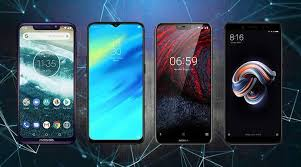mi: (224, 19, 284, 149), (154, 20, 214, 150), (17, 20, 77, 150)
